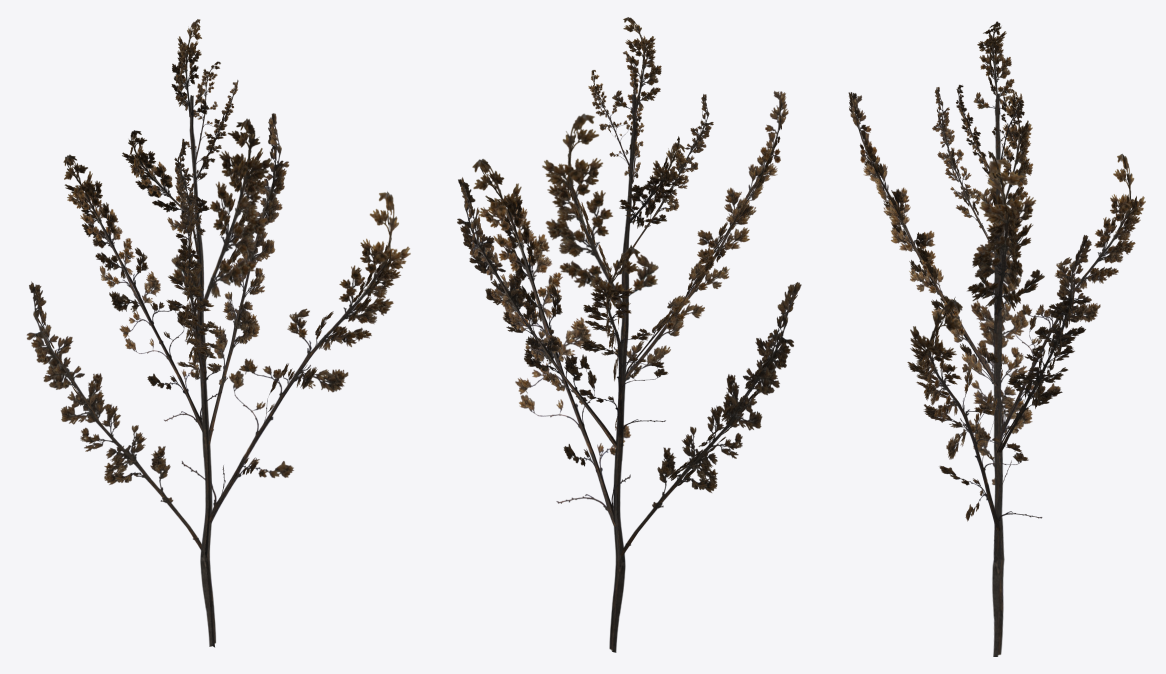
File: dried_sagebrush.glb
3 renders of one model, left to right at view 1: azimuth 30°, elevation 25°; view 2: azimuth 150°, elevation 25°; view 3: azimuth 270°, elevation 25°, orthographic.
Parts seen in each view (by area): view 1: dried sagebrush_0; view 2: dried sagebrush_0; view 3: dried sagebrush_0.
Part boxes in pixels (x1,y1,x2,y2): dried sagebrush_0: (27, 19, 410, 647); dried sagebrush_0: (457, 17, 801, 652); dried sagebrush_0: (848, 21, 1145, 656).
Bounding box in the file's own units: 0.5853 × 0.9605 × 0.4234.
Materials: 1 (1 with a texture image).
